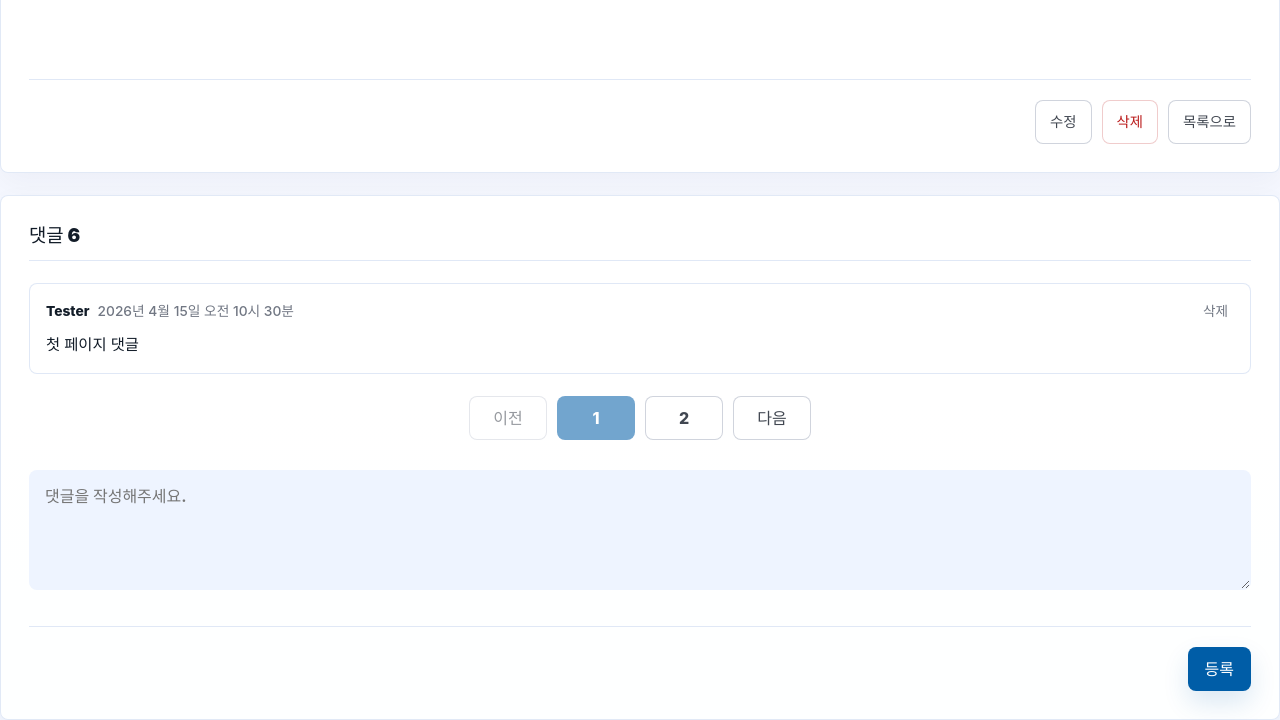
Test: CommunityDetailPage › should_request_next_comment_page_when_pagination_button_is_clicked
(page scrolled)
Expected: the text "첫 페이지 댓글" is shown, [46,335,139,354]
Step 1. Click the button "다음" → (772, 418), box [733,396,811,440]
(page scrolled)
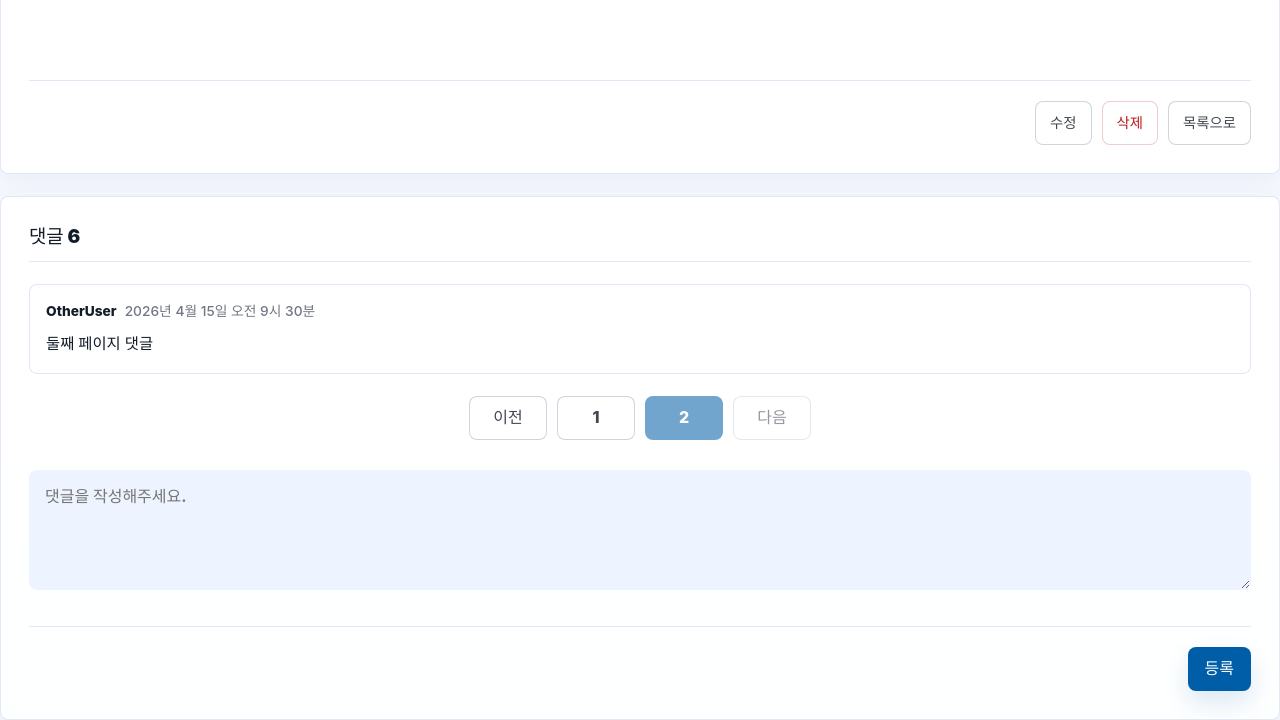
Expected: the text "둘째 페이지 댓글" is shown, [46,334,153,353]
